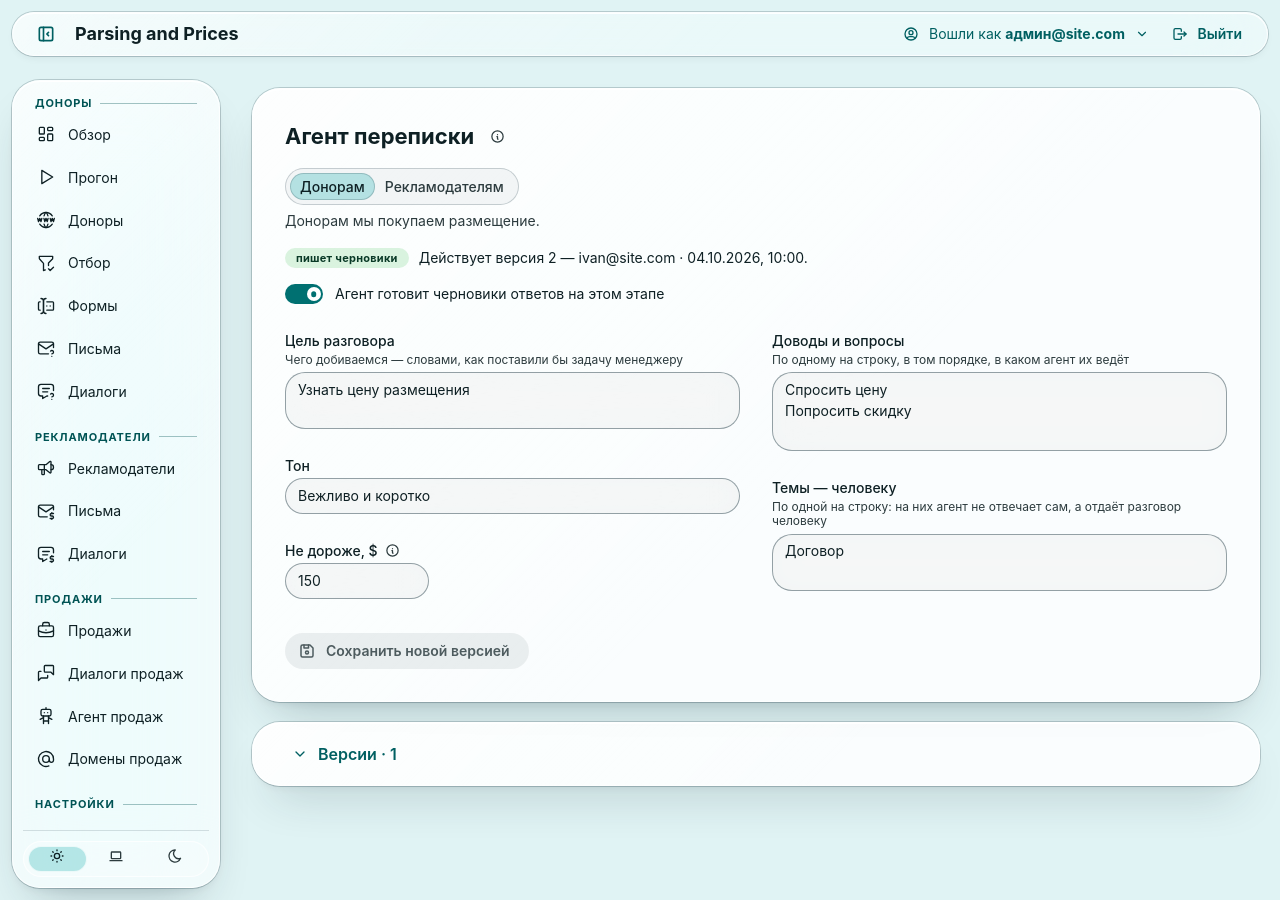
Test: агент переписки › действующая версия: кто и когда, сохранять нечего до правки, правку можно вернуть
Expected: the text box labelled "Цель разговора" is shown, [285,372,740,429]
Expected: the text "Действует версия 2 — ivan@site.com · 04.10.2026, 10:00." is shown, [419,248,808,268]
What coordinates should you click on to do the following:
click the switch labelled "Агент готовит черновики ответов на этом этапе"
I would click on:
 (475, 294)
Its box is [285,284,664,304].
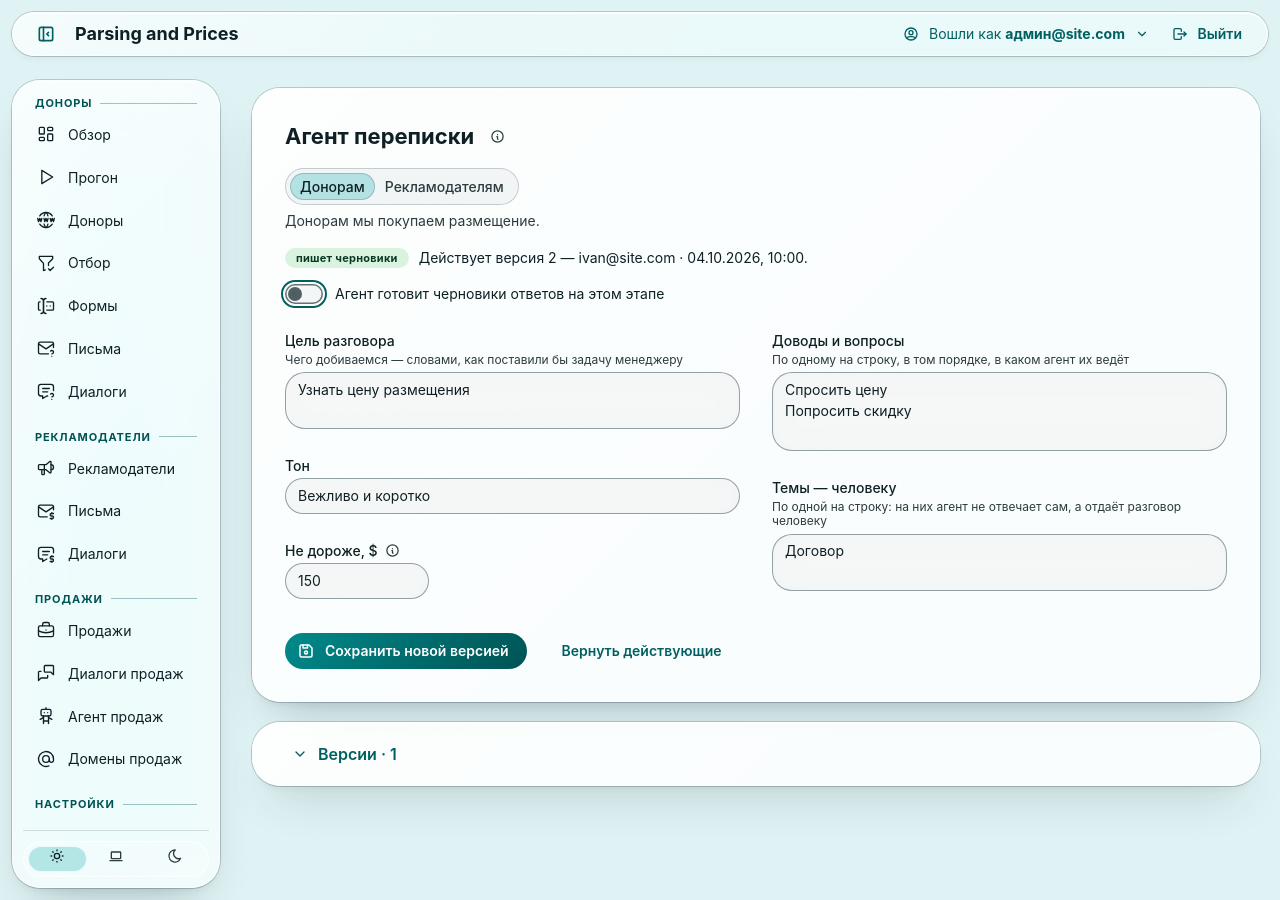
Expected: the button "Сохранить новой версией" is enabled, [285,633,527,669]
What coordinates should you click on to do the following:
click the button "Вернуть действующие"
I would click on:
 (642, 651)
Its box is [543,633,740,669].
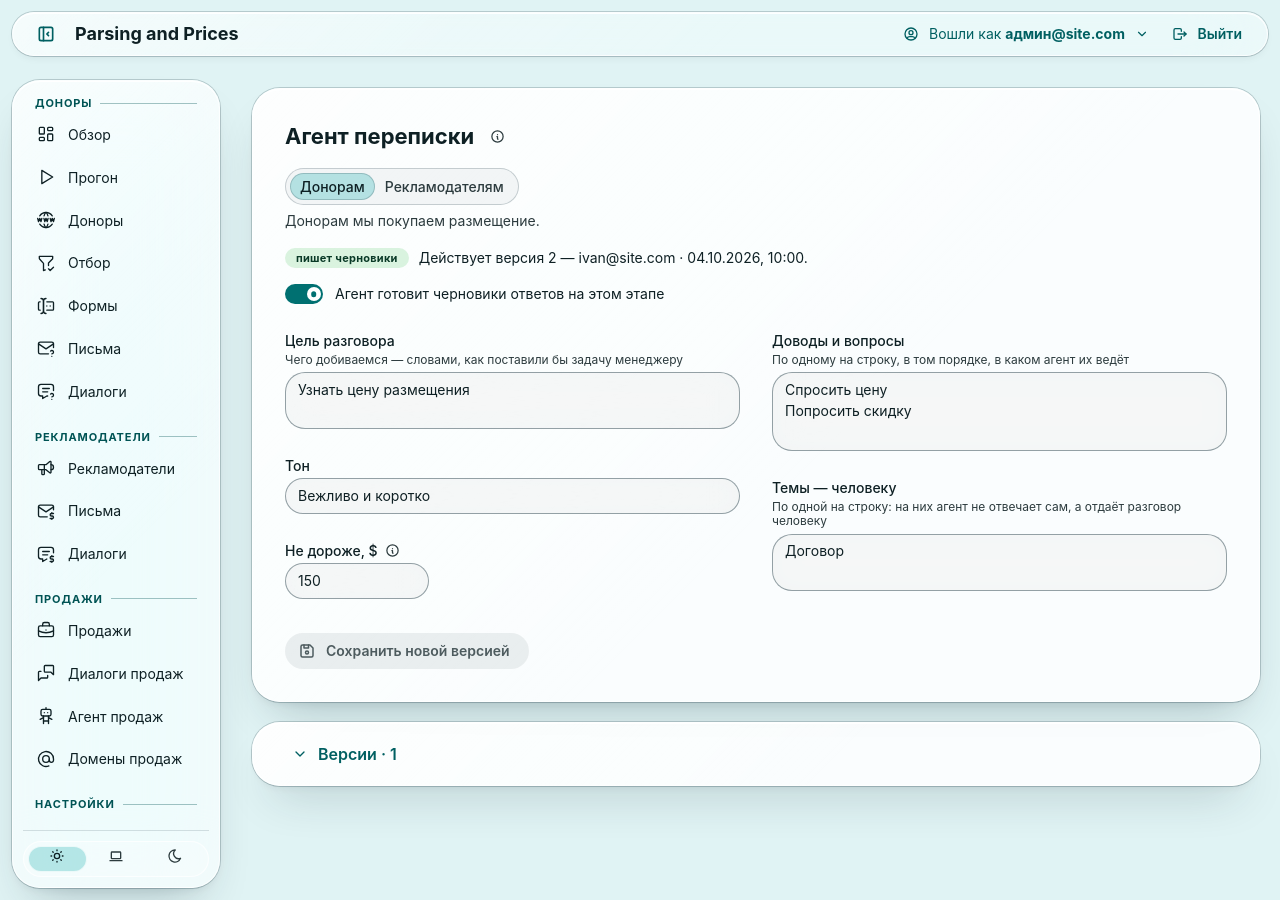
Expected: the button "Сохранить новой версией" is disabled, [285,633,529,669]
